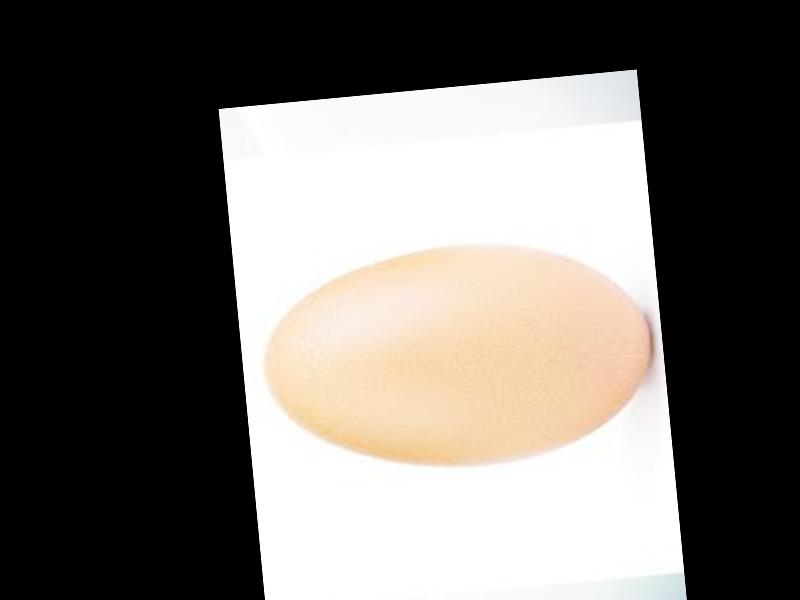Eggs: (256, 228, 660, 484)
